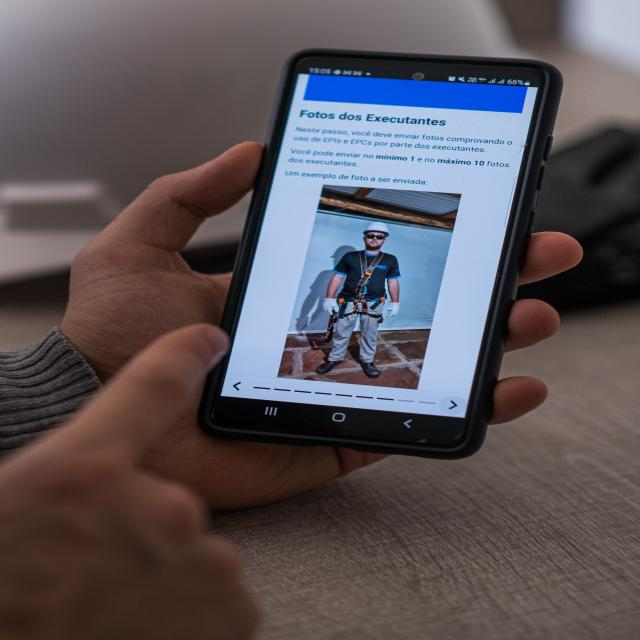botas: (355, 355, 382, 380), (313, 356, 343, 377)
capacete: (359, 220, 393, 233)
corda de vida: (338, 249, 395, 321)
luva: (318, 292, 343, 317), (383, 298, 402, 320)
